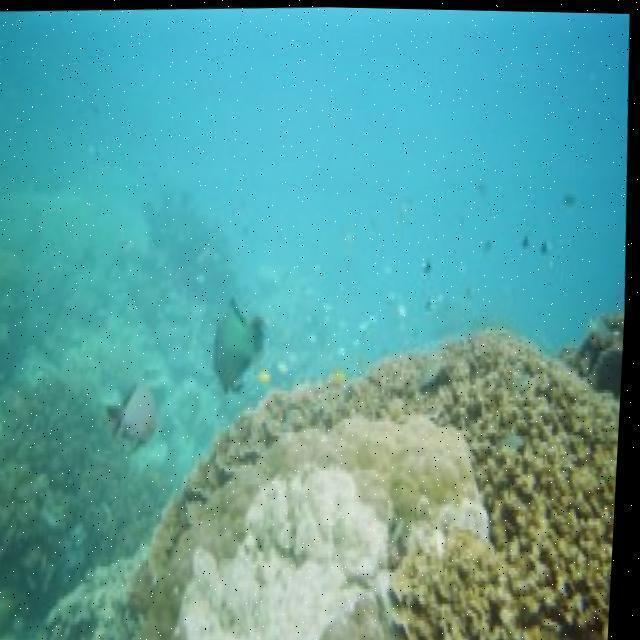Bleached Coral: (164, 439, 479, 640)
